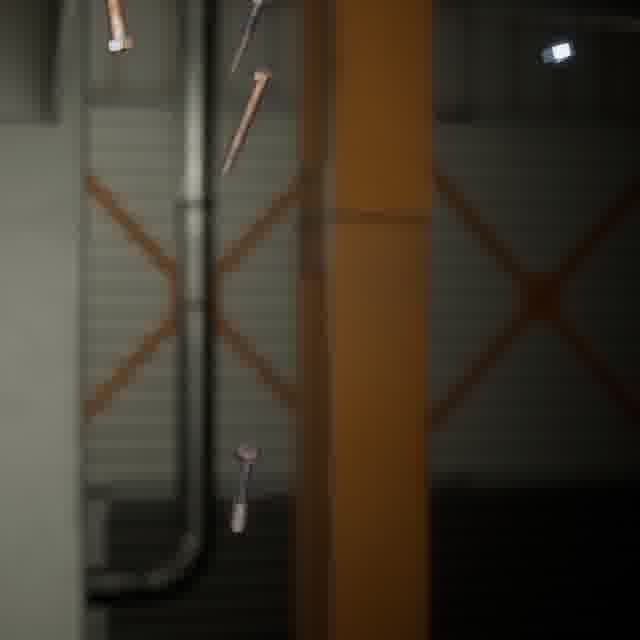bolt: (214, 62, 280, 180), (223, 0, 274, 85), (226, 438, 265, 536), (99, 0, 138, 57)
nut: (537, 38, 579, 68)
